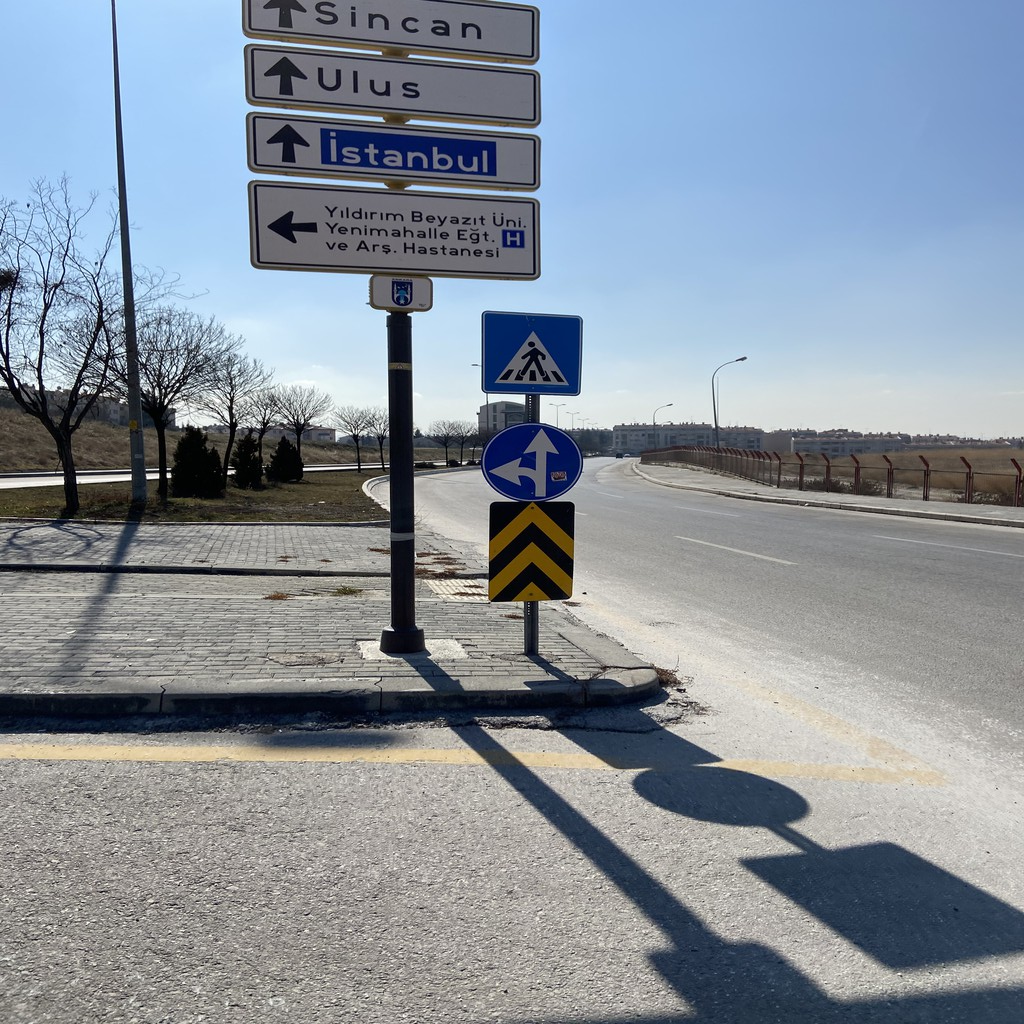Yaya Gecidi: (486, 304, 585, 398)
ileri ve Sola Mecburi Don: (481, 415, 586, 499)
